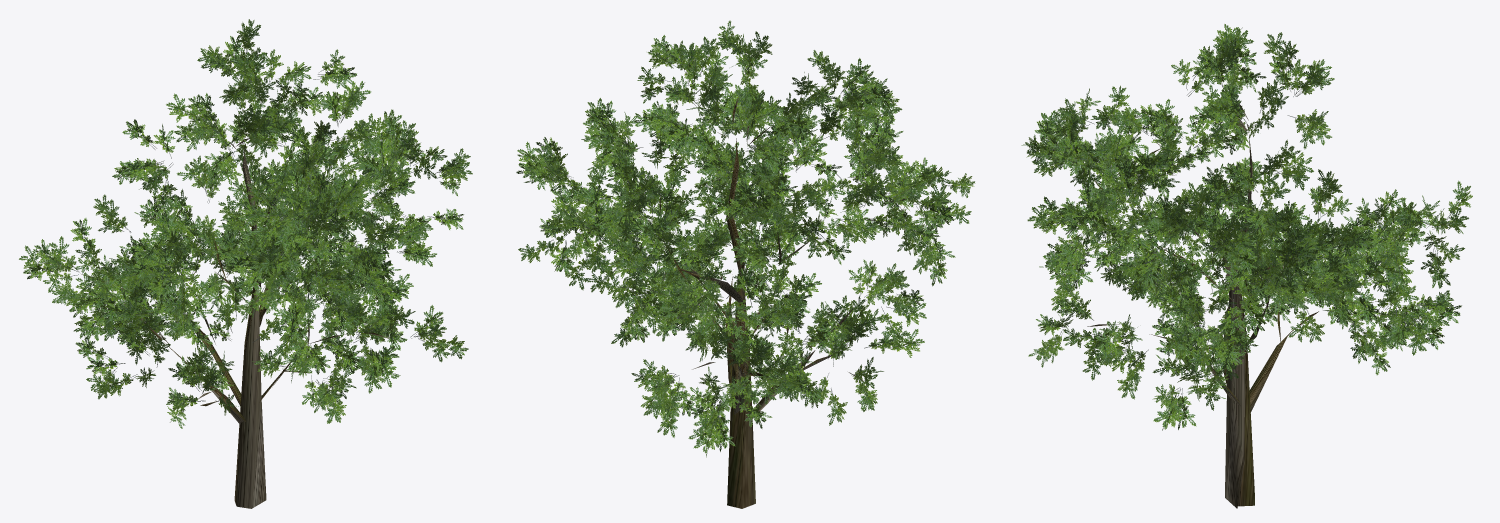
File: apple.glb
The picture shows the model from 3 angles, left to right: view 1: azimuth 30°, elevation 25°; view 2: azimuth 150°, elevation 25°; view 3: azimuth 270°, elevation 25°; orthographic projection. The views are drawn at different scales.
Parts seen in each view (by area): view 1: Mesh_1, Mesh_0; view 2: Mesh_1, Mesh_0; view 3: Mesh_1, Mesh_0.
Part boxes in pixels (box(x1,y1,x2,y2)): Mesh_1: box(19, 19, 472, 428); Mesh_0: box(81, 113, 446, 508); Mesh_1: box(516, 20, 975, 457); Mesh_0: box(638, 96, 955, 508); Mesh_1: box(1021, 24, 1472, 430); Mesh_0: box(1087, 104, 1382, 508).
Bounding box in the file's own units: 2.41 × 2.92 × 2.58.
Materials: 2 (2 with a texture image).
